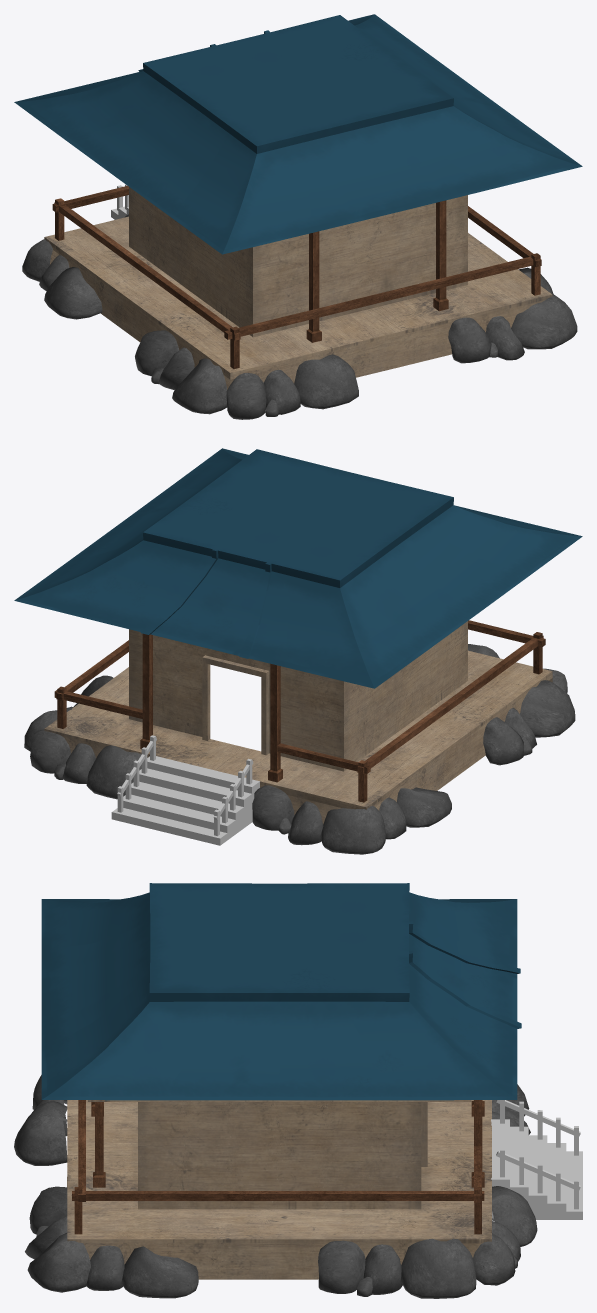
Rendered from Hub_Building.fbx.
3 views of the same model, one above another, from view 1: azimuth 30°, elevation 25°; view 2: azimuth 150°, elevation 25°; view 3: azimuth 270°, elevation 25° (orthographic). The views are drawn at different scales.
Visible parts, largest first — view 1: polySurface20, polySurface21, polySurface93, pasted__polySurface5 (×2), pasted__pasted__pasted__pasted__polySurface5 (×2), pasted__pasted__polySurface5 (×2), pasted__pasted__pasted__polySurface5 (×2), pasted__pCube1, pasted__pasted__pCube1; view 2: polySurface20, polySurface21, polySurface22, pasted__pasted__pasted__polySurface5 (×3), polySurface93, pasted__polySurface5 (×3), pasted__pasted__polySurface5, polySurface5, pCube1, pasted__pCube1, polySurface188, pasted__polySurface188; view 3: polySurface20, polySurface21, pasted__polySurface5 (×3), pasted__pasted__polySurface5 (×2), polySurface93, polySurface22, pasted__pasted__pasted__pasted__polySurface5 (×2), polySurface5, polySurface188, pasted__polySurface188, pasted__pasted__pCube1, pasted__pCube1.
Part boxes in pixels (<box>): polySurface20: <box>14,14,582,254</box>; polySurface21: <box>44,187,552,389</box>; polySurface93: <box>52,186,541,368</box>; pasted__polySurface5 (×2): <box>39,255,358,414</box>; pasted__pasted__pasted__pasted__polySurface5 (×2): <box>448,293,577,363</box>; pasted__pasted__polySurface5 (×2): <box>158,347,266,419</box>; pasted__pasted__pasted__polySurface5 (×2): <box>22,239,179,376</box>; pasted__pCube1: <box>306,231,321,342</box>; pasted__pasted__pCube1: <box>433,200,448,311</box>; polySurface20: <box>14,448,582,688</box>; polySurface21: <box>44,621,552,823</box>; polySurface22: <box>111,756,259,845</box>; pasted__pasted__pasted__polySurface5 (×3): <box>252,717,523,854</box>; polySurface93: <box>54,620,545,802</box>; pasted__polySurface5 (×3): <box>24,703,451,839</box>; pasted__pasted__polySurface5: <box>505,680,575,748</box>; polySurface5: <box>62,743,141,799</box>; pCube1: <box>268,663,282,782</box>; pasted__pCube1: <box>140,633,152,749</box>; polySurface188: <box>117,735,156,812</box>; pasted__polySurface188: <box>213,758,253,836</box>; polySurface20: <box>41,883,521,1100</box>; polySurface21: <box>67,1100,491,1279</box>; pasted__polySurface5 (×3): <box>14,1100,515,1298</box>; pasted__pasted__polySurface5 (×2): <box>86,1240,365,1298</box>; polySurface93: <box>72,1100,484,1234</box>; polySurface22: <box>491,1119,582,1219</box>; pasted__pasted__pasted__pasted__polySurface5 (×2): <box>25,1186,90,1292</box>; polySurface5: <box>492,1186,537,1261</box>; polySurface188: <box>496,1148,580,1209</box>; pasted__polySurface188: <box>496,1100,580,1155</box>; pasted__pasted__pCube1: <box>93,1102,105,1187</box>; pasted__pCube1: <box>471,1100,484,1187</box>.
Size of what is drawn, in the model's own units: 403 by 222 by 440.
